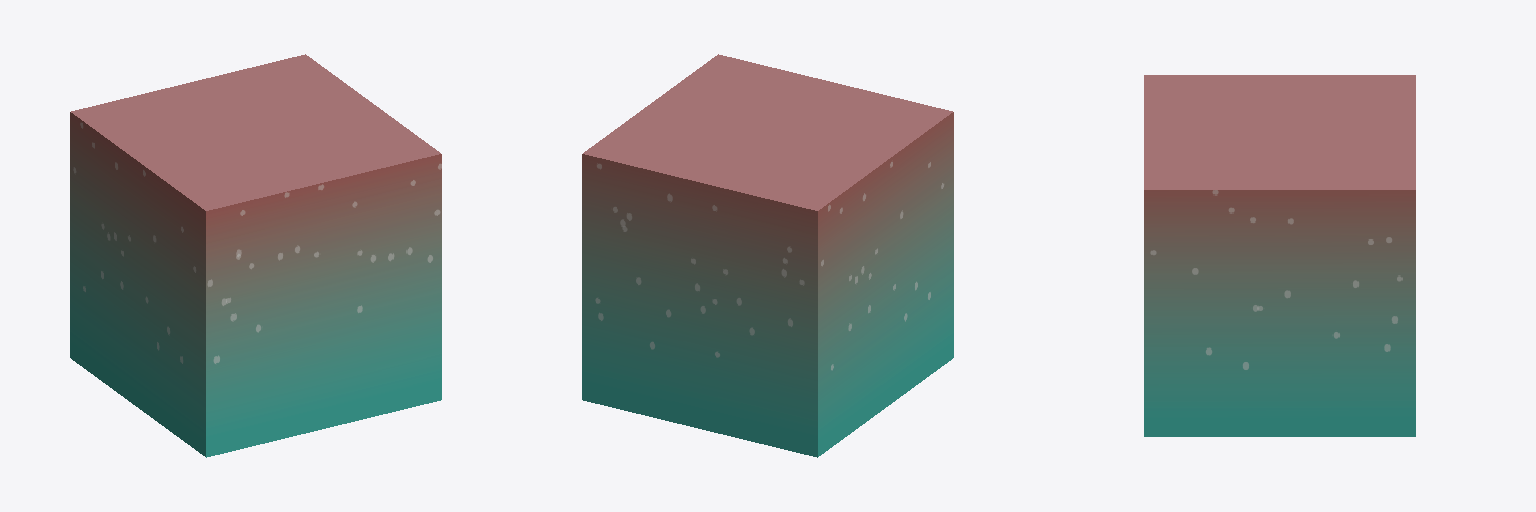
The picture shows the model from 3 angles: view 1: azimuth 30°, elevation 25°; view 2: azimuth 150°, elevation 25°; view 3: azimuth 270°, elevation 25°; orthographic projection.
Parts seen in each view (by area): view 1: Sphere; view 2: Sphere; view 3: Sphere.
Boxes of the visible parts, <box> form: Sphere: <box>70,54,441,457</box>; Sphere: <box>582,54,953,457</box>; Sphere: <box>1144,75,1415,436</box>.
Size of the model in its own units: 42.7 by 42.7 by 42.7.
1 materials, 1 textured.